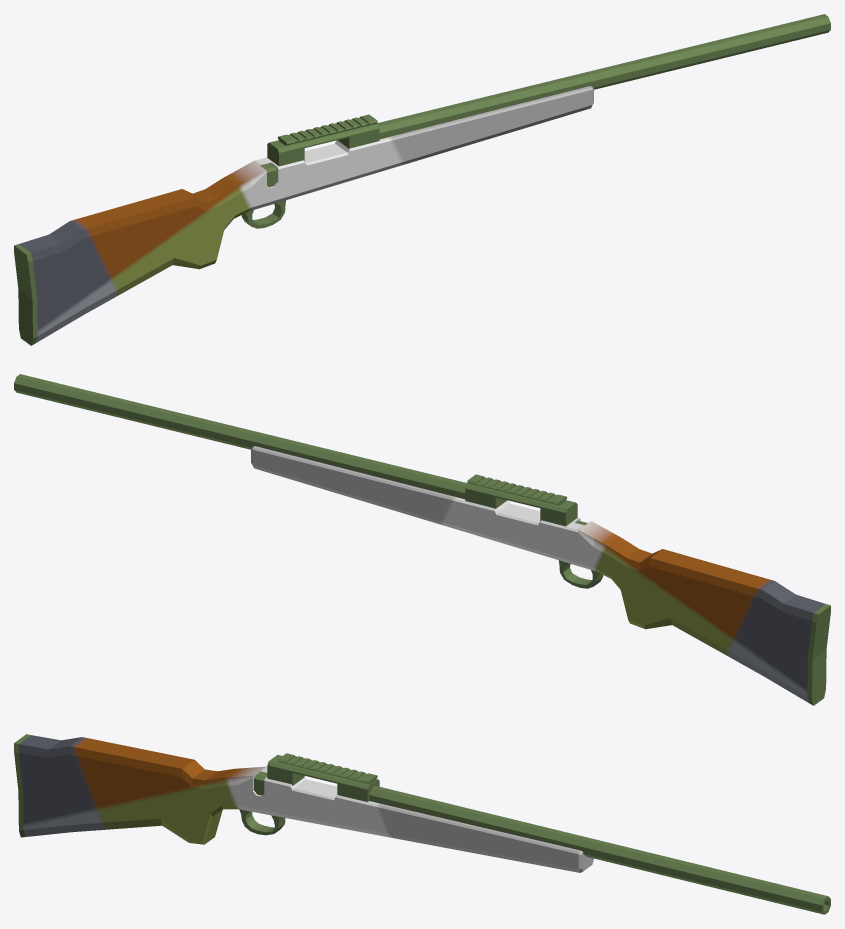
File: SniperRifle3_06.fbx
The picture shows the model from 3 angles, top to bottom: view 1: azimuth 30°, elevation 25°; view 2: azimuth 150°, elevation 25°; view 3: azimuth 330°, elevation 25°; orthographic projection.
Parts seen in each view (by area): view 1: SniperRifle3_06; view 2: SniperRifle3_06; view 3: SniperRifle3_06.
Boxes of the visible parts, left/top/right/bottom form: SniperRifle3_06: left=14, top=14, right=830, bottom=345; SniperRifle3_06: left=14, top=374, right=830, bottom=705; SniperRifle3_06: left=14, top=734, right=830, bottom=914.
Bounding box in the file's own units: 1.22 × 0.2029 × 0.0371.
